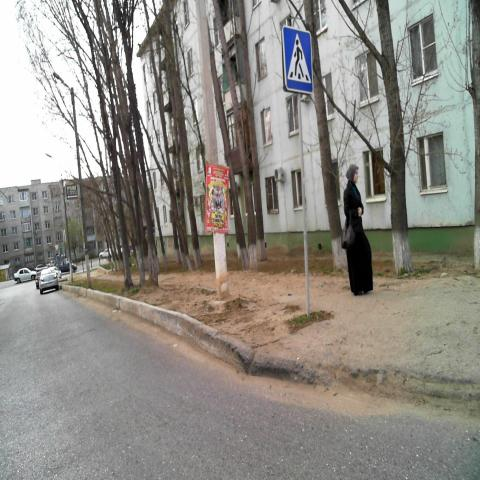5_19_1: (282, 27, 314, 94)
